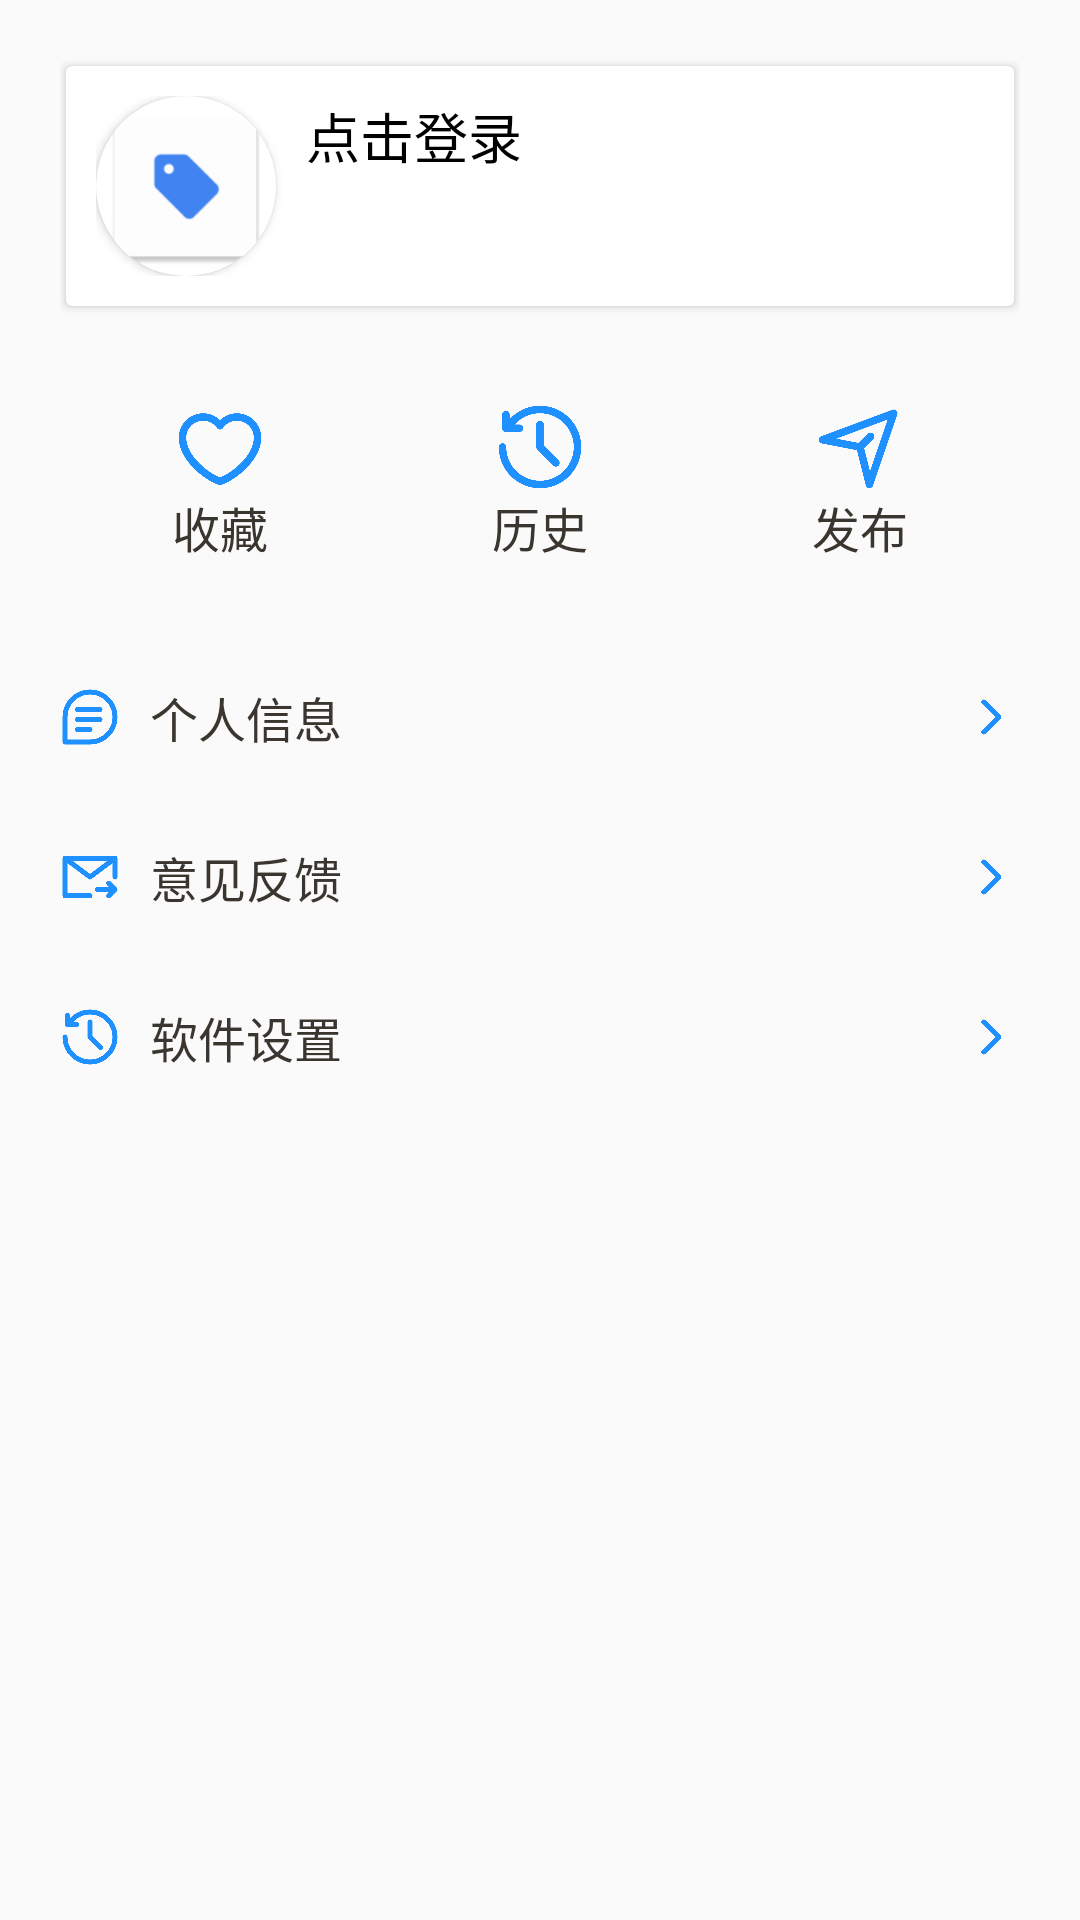

Named icons in this screenshot (1080x1920) and their centers, (x=x, y=y):
feedback: (x=90, y=877)
message: (x=90, y=717)
right: (x=991, y=717), (x=991, y=877), (x=991, y=1037)
